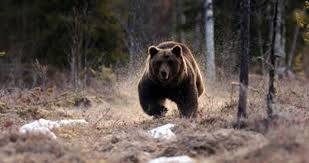bear: (135, 28, 214, 137)
